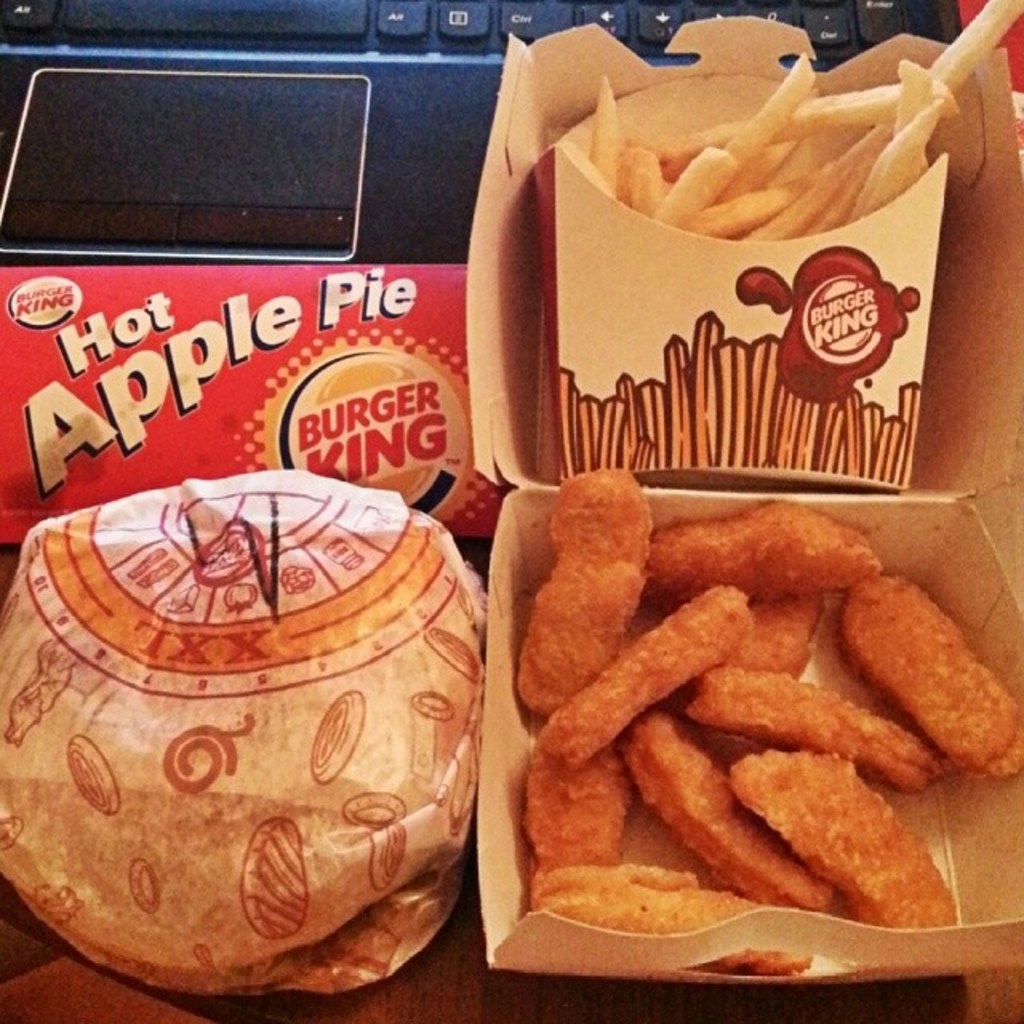French fries: (579, 0, 1022, 228)
